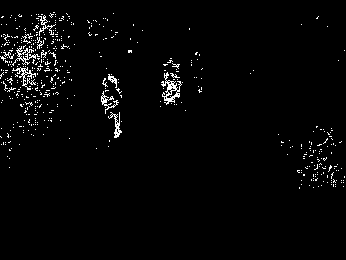person: (99, 73, 124, 140)
